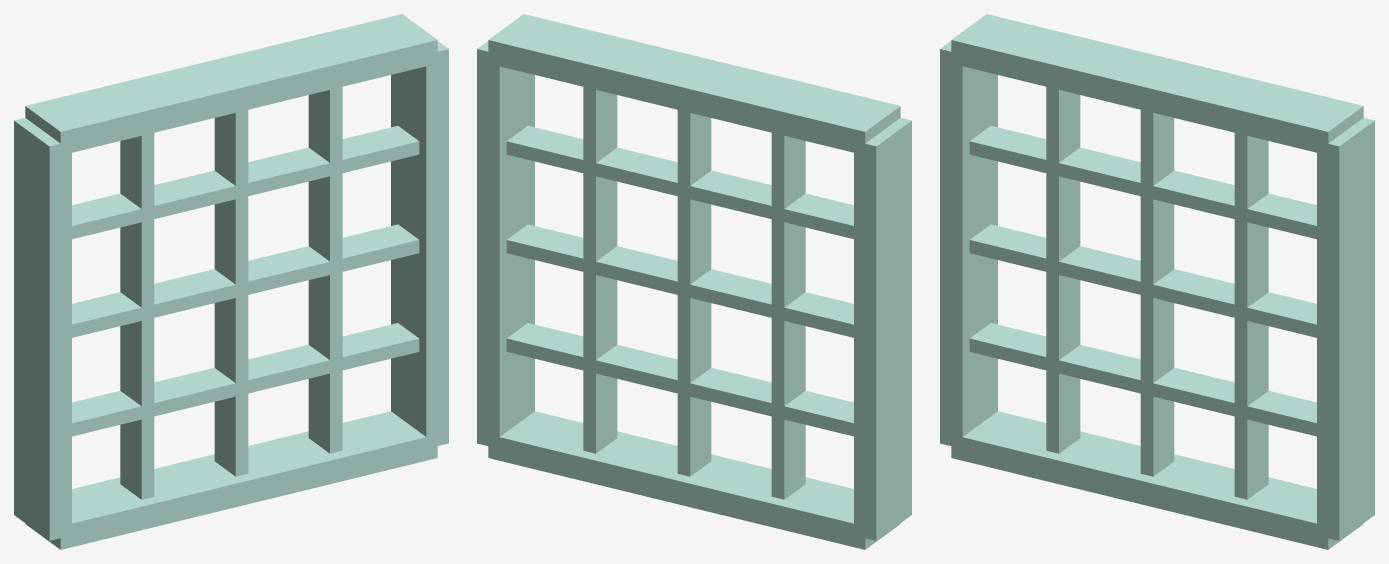
The model's file is opal-lattice.obj.
3 renders of one model, left to right at view 1: azimuth 30°, elevation 25°; view 2: azimuth 150°, elevation 25°; view 3: azimuth 330°, elevation 25°, orthographic.
Bounding box in the file's own units: 0.975 × 0.975 × 0.15.
